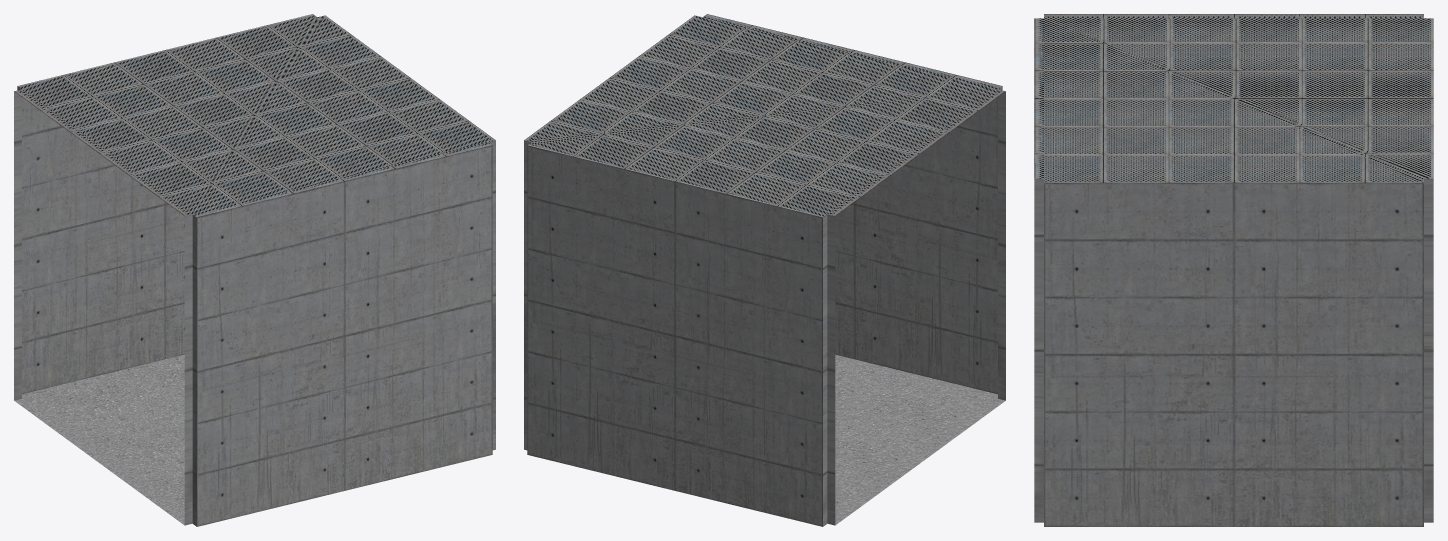
File: DeadEnd.fbx
3 views of the same model, side by side, from view 1: azimuth 30°, elevation 25°; view 2: azimuth 150°, elevation 25°; view 3: azimuth 270°, elevation 25° (orthographic). The views are drawn at different scales.
Parts seen in each view (by area): view 1: Room; view 2: Room; view 3: Room.
Part boxes in pixels (<box>): Room: <box>14,14,495,526</box>; Room: <box>524,14,1005,526</box>; Room: <box>1034,14,1433,526</box>.
Size of the model in its own units: 200 by 190 by 200.
